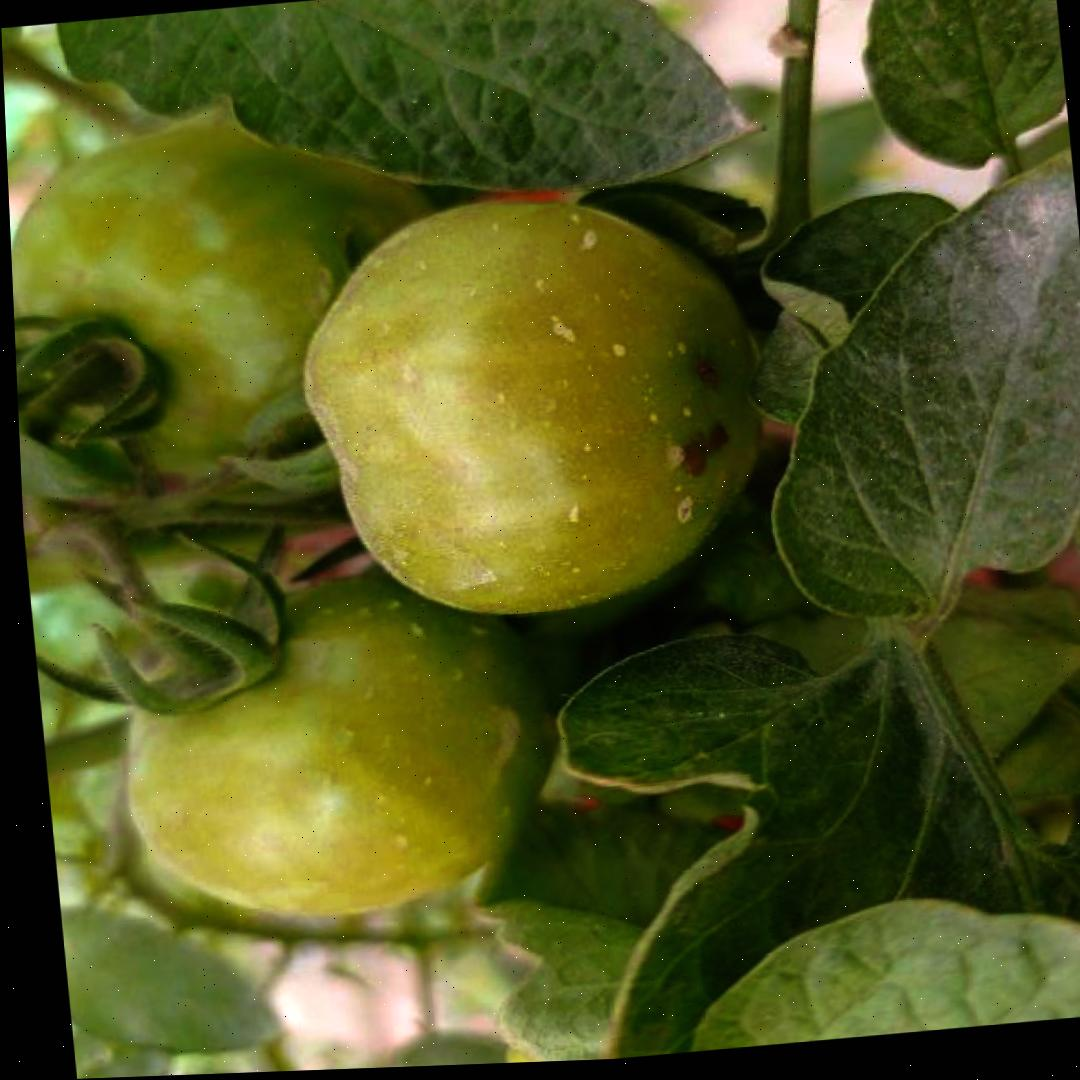mentah: (283, 168, 792, 639), (6, 107, 474, 503), (98, 550, 573, 937)
